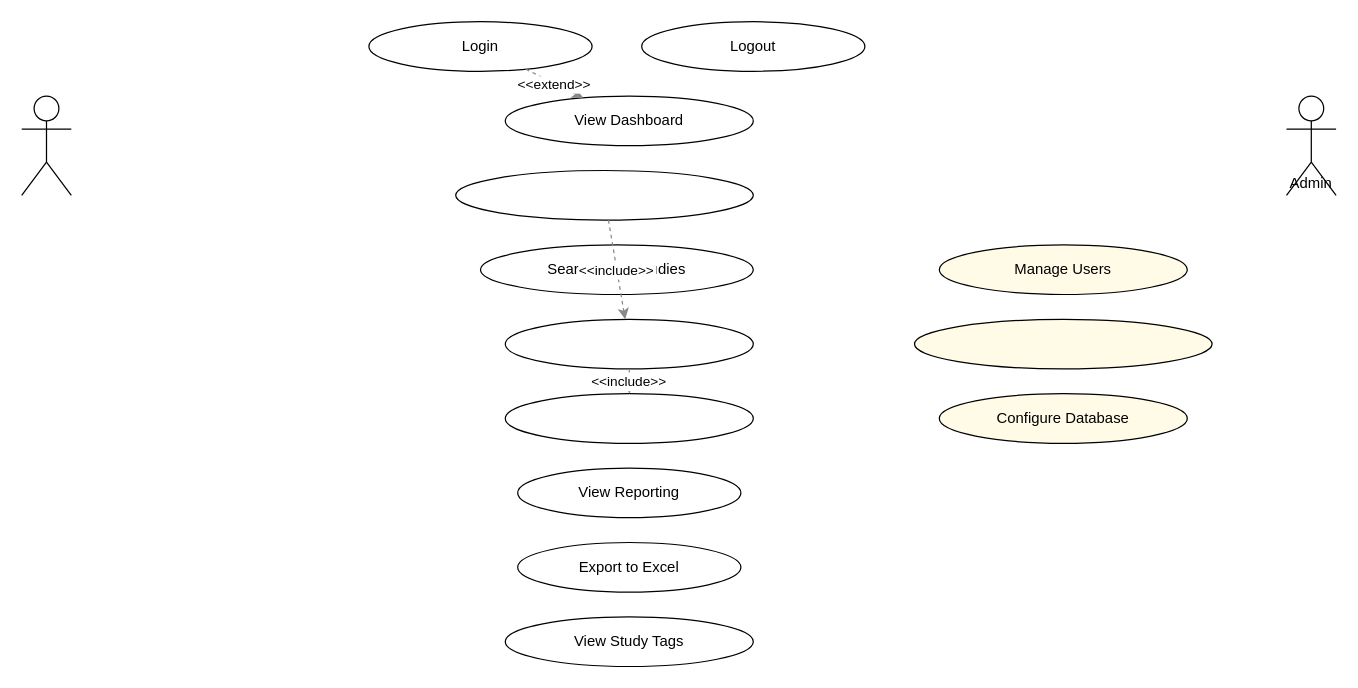
The diagram is 1358 pixels wide and 688 high, and some of its shapes have lost their labels. The shapes that lost their labels are listed below. From the top down, each one's centre as x and y in pixels, then its label:
At [45,145]: "User".
At [603,194]: "View Patient Dose List".
At [628,343]: "Get Dose (Extract)".
At [1062,343]: "Configure DICOM Storage".
At [628,417]: "Save Dose Record".
